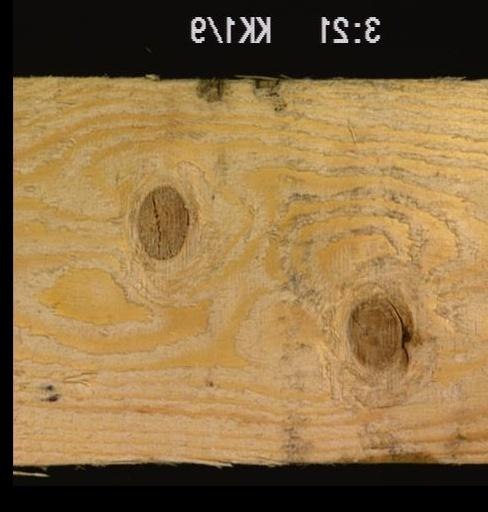dry_knot: (339, 288, 410, 378)
sound_knot: (132, 184, 191, 263)
wave: (378, 442, 435, 462)
